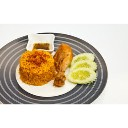briyani: (20, 45, 73, 89)
